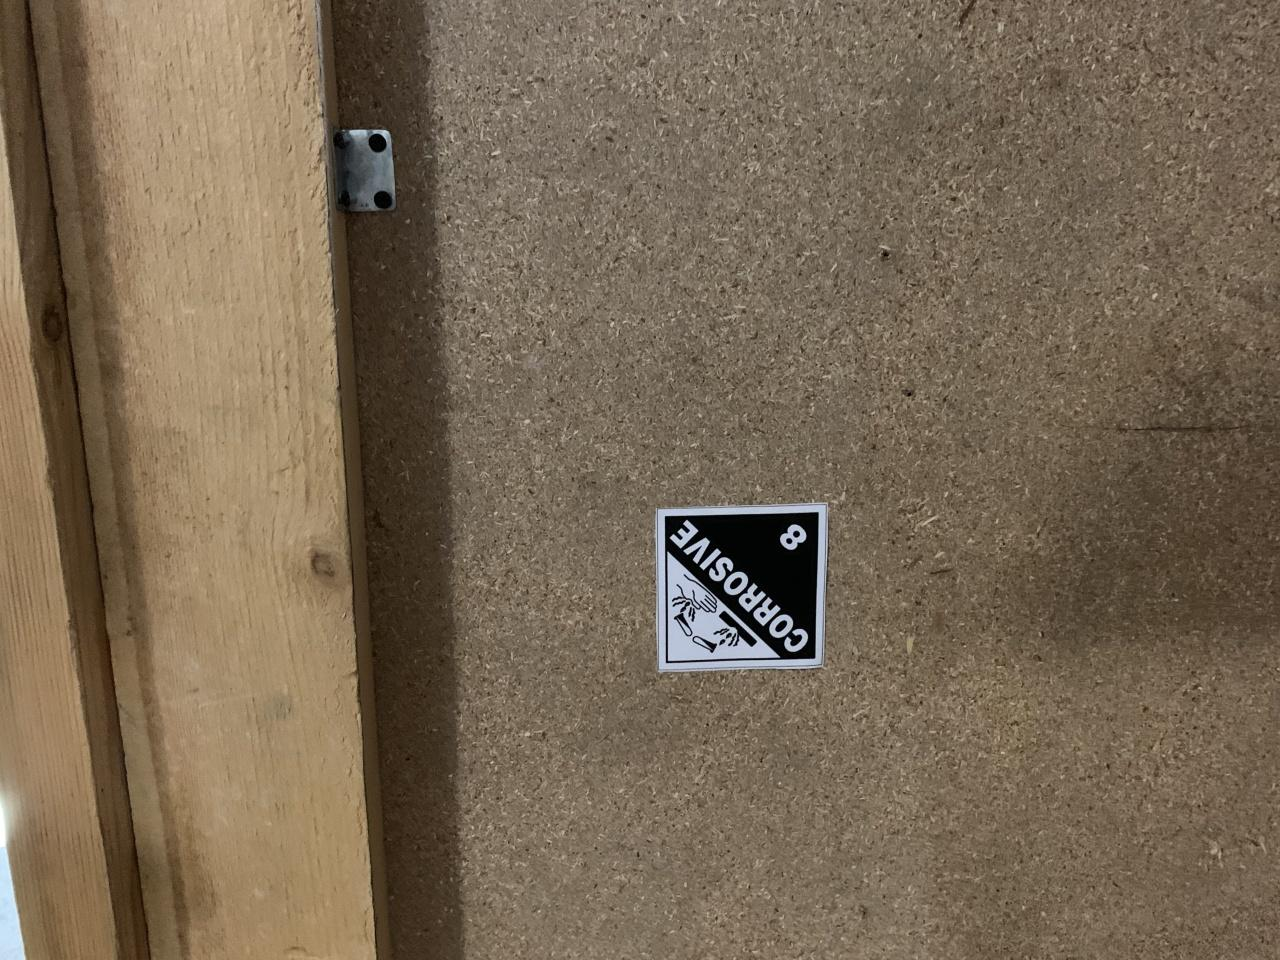corrosive: (653, 502, 826, 671)
